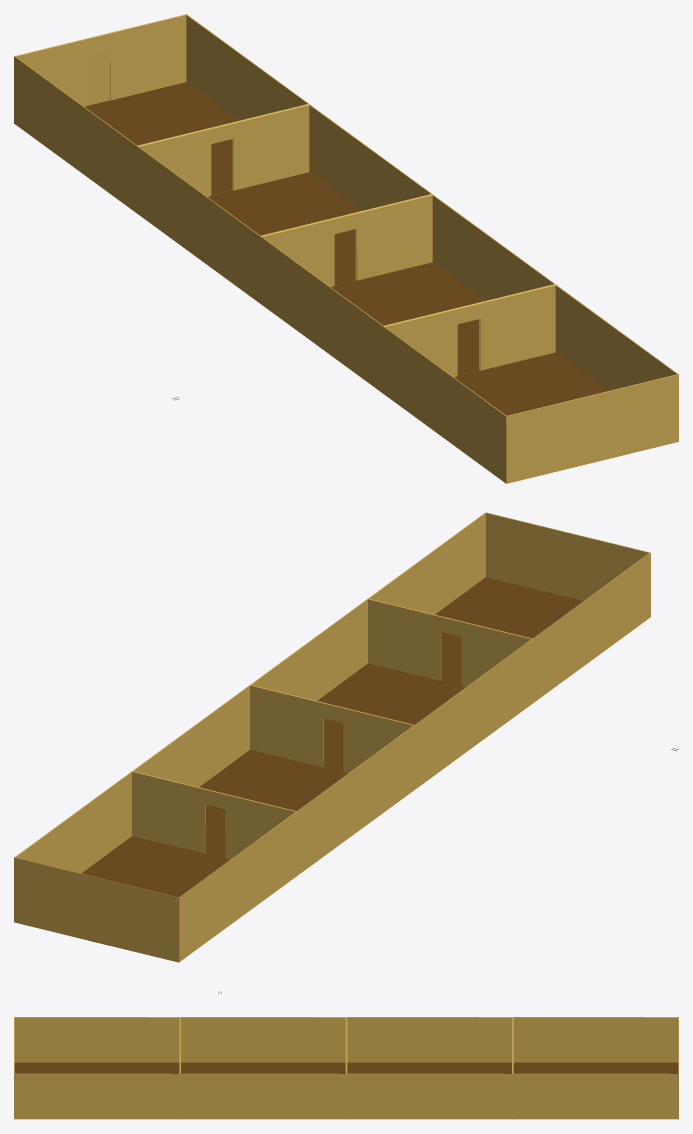
File: outlinefinal.fbx
The picture shows the model from 3 angles, top to bottom: view 1: azimuth 30°, elevation 25°; view 2: azimuth 150°, elevation 25°; view 3: azimuth 270°, elevation 25°; orthographic projection. The views are drawn at different scales.
Parts seen in each view (by area): view 1: Cube.001, Cube.005, Cube.004, Cube.003; view 2: Cube.005, Cube.001, Cube.003, Cube.004; view 3: Cube.001, Cube.003, Cube.004, Cube.005.
Boxes of the visible parts, x1,y1,x2,y2 form: Cube.001: (383, 284, 678, 483); Cube.005: (14, 14, 309, 213); Cube.004: (137, 104, 432, 303); Cube.003: (260, 194, 555, 393); Cube.005: (14, 771, 297, 962); Cube.001: (368, 512, 650, 702); Cube.003: (250, 598, 532, 789); Cube.004: (132, 685, 414, 875); Cube.001: (14, 1017, 180, 1119); Cube.003: (180, 1017, 346, 1119); Cube.004: (346, 1017, 512, 1119); Cube.005: (512, 1017, 678, 1119).
Size of the model in its own units: 4783 by 879 by 11536.
